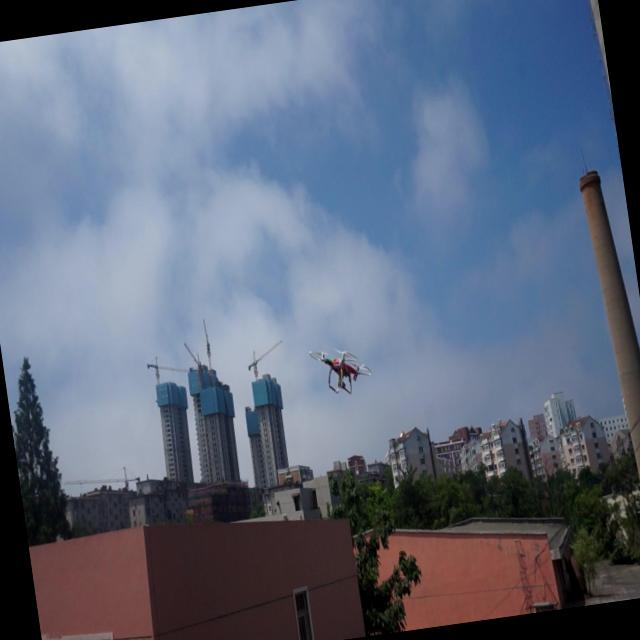drone: (306, 338, 378, 404)
